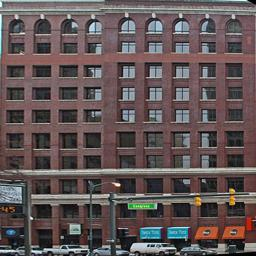building: (0, 0, 256, 227)
